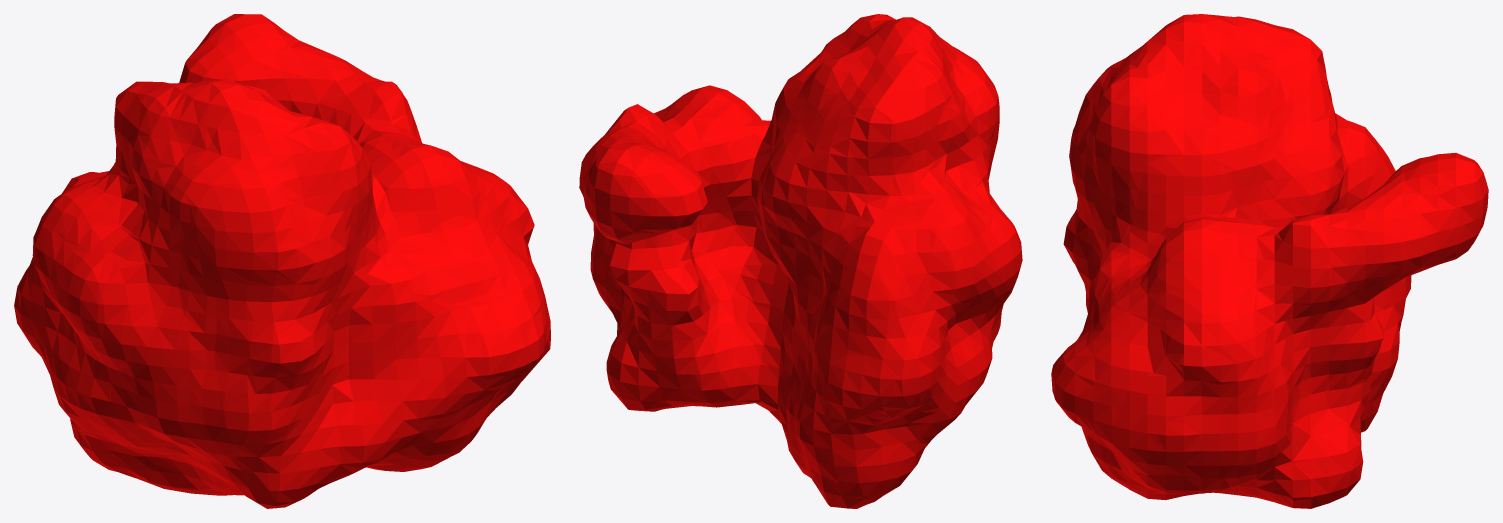
The model's file is bioF_coarse.dae.
3 renders of one model, left to right at view 1: azimuth 30°, elevation 25°; view 2: azimuth 150°, elevation 25°; view 3: azimuth 270°, elevation 25°, orthographic. The views are drawn at different scales.
Visible parts, largest first — view 1: bioF; view 2: bioF; view 3: bioF.
Boxes of the visible parts, <box> form: bioF: <box>14,14,550,508</box>; bioF: <box>579,14,1022,508</box>; bioF: <box>1051,14,1488,508</box>.
Bounding box in the file's own units: 63.39 × 61.34 × 56.5.
